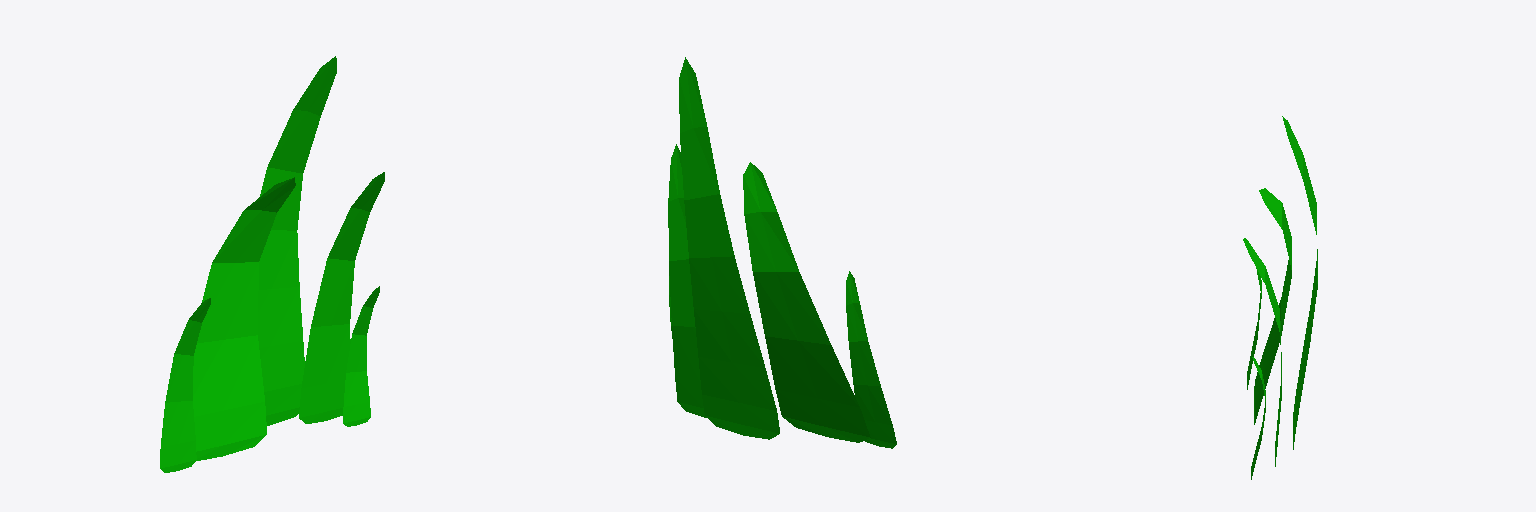
The model's file is Grass.obj.
3 views of the same model, side by side, from view 1: azimuth 30°, elevation 25°; view 2: azimuth 150°, elevation 25°; view 3: azimuth 270°, elevation 25° (orthographic).
Visible parts, largest first — view 1: Grass_Cube; view 2: Grass_Cube; view 3: Grass_Cube.
Boxes of the visible parts, x1,y1,x2,y2 form: Grass_Cube: [160, 56, 384, 472]; Grass_Cube: [668, 57, 896, 448]; Grass_Cube: [1243, 116, 1317, 479].
Size of the model in its own units: 1.41 by 2.15 by 0.4068.